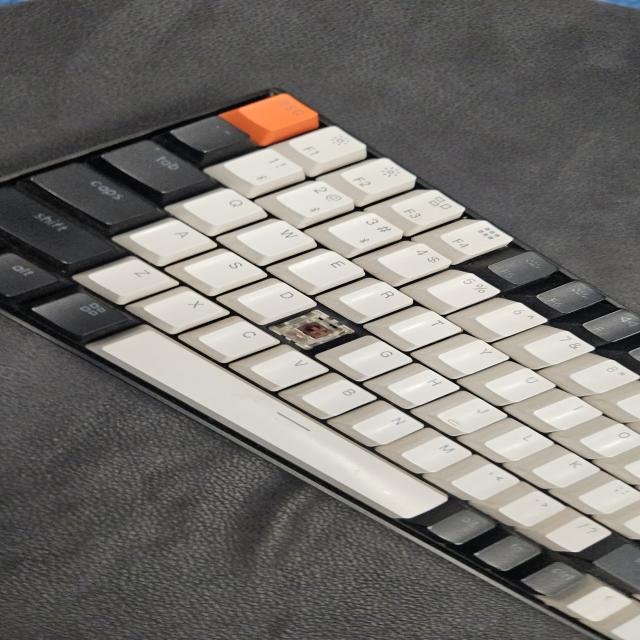C: (292, 312, 346, 347), (287, 316, 338, 346)
